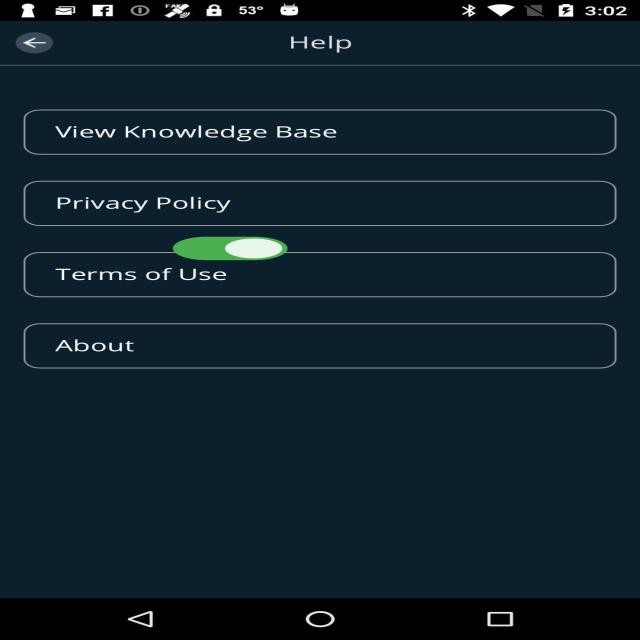social proof: (168, 228, 292, 271)
